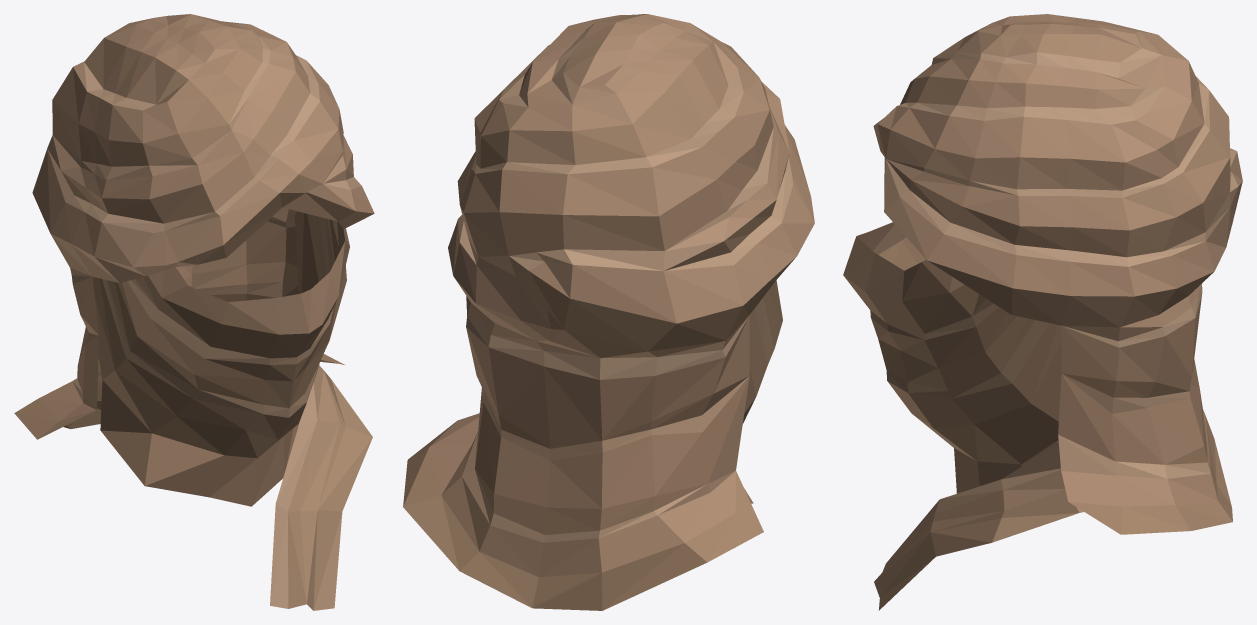
The model's file is desertTurbanCoveringBeigeFemale.glb.
3 views of the same model, side by side, from view 1: azimuth 30°, elevation 25°; view 2: azimuth 150°, elevation 25°; view 3: azimuth 270°, elevation 25° (orthographic). The views are drawn at different scales.
Visible parts, largest first — view 1: desertTurbanCoveringBeigeFemale; view 2: desertTurbanCoveringBeigeFemale; view 3: desertTurbanCoveringBeigeFemale.
Boxes of the visible parts, x1,y1,x2,y2 form: desertTurbanCoveringBeigeFemale: (14,14,374,610); desertTurbanCoveringBeigeFemale: (403,14,814,610); desertTurbanCoveringBeigeFemale: (843,14,1242,610).
Bounding box in the file's own units: 0.3152 × 0.515 × 0.3321.
